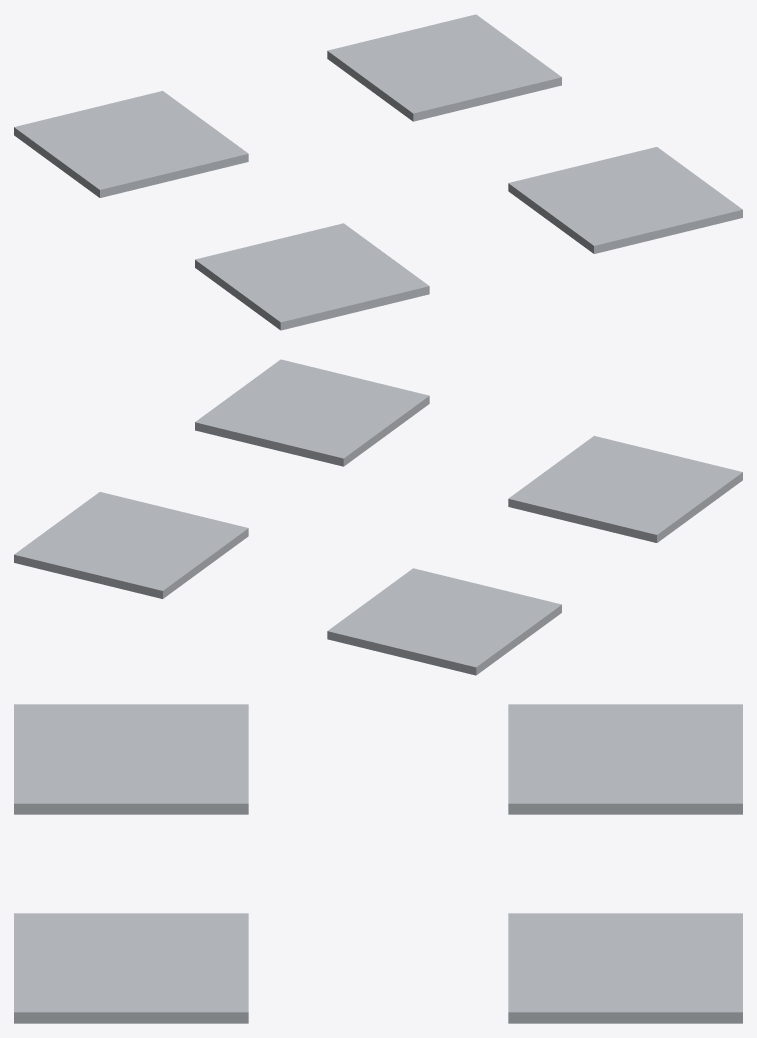
Rendered from Canopy_Light_Panel.glb.
3 renders of one model, top to bottom at view 1: azimuth 30°, elevation 25°; view 2: azimuth 150°, elevation 25°; view 3: azimuth 270°, elevation 25°, orthographic. The views are drawn at different scales.
Parts seen in each view (by area): view 1: Canopy_Light_Panel; view 2: Canopy_Light_Panel; view 3: Canopy_Light_Panel.
Boxes of the visible parts, x1,y1,x2,y2 form: Canopy_Light_Panel: (14,14,742,330); Canopy_Light_Panel: (14,359,742,675); Canopy_Light_Panel: (14,704,742,1023).
Bounding box in the file's own units: 2.95 × 0.06 × 2.95.
Materials: 1 (1 with a texture image).
